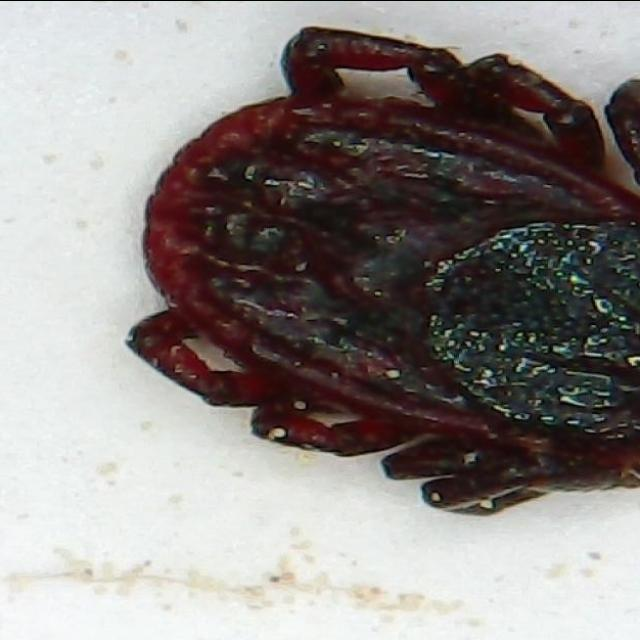Rhipicephalus Sanguineus-F: (126, 24, 640, 515)
